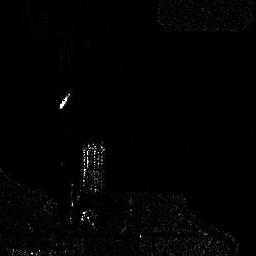ship: (59, 93, 71, 110)
